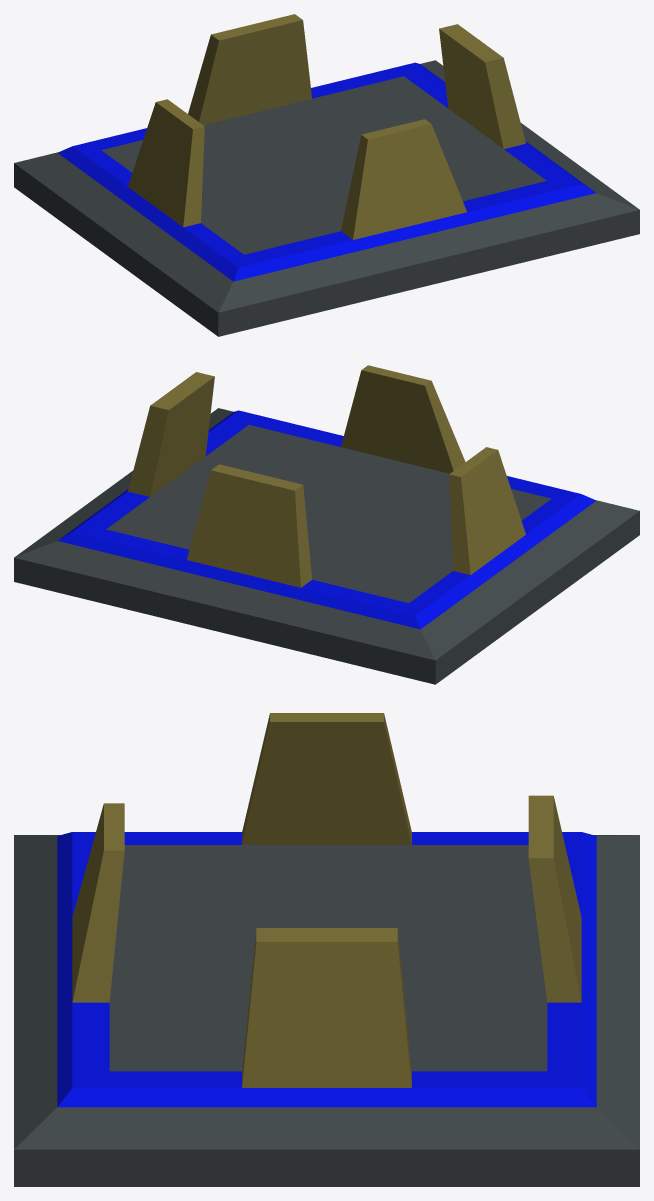
File: torre.fbx
3 renders of one model, top to bottom at view 1: azimuth 30°, elevation 25°; view 2: azimuth 150°, elevation 25°; view 3: azimuth 270°, elevation 25°, orthographic. The views are drawn at different scales.
Visible parts, largest first — view 1: Cube; view 2: Cube; view 3: Cube.
Part boxes in pixels (x1=…): Cube: x1=14, y1=14, x2=639, y2=336; Cube: x1=14, y1=365, x2=639, y2=684; Cube: x1=14, y1=713, x2=639, y2=1186.
Bounding box in the file's own units: 928 × 278 × 780.
